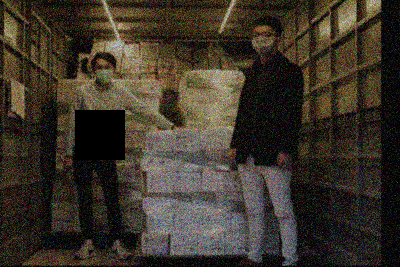with_mask: (252, 30, 279, 56), (93, 62, 114, 84)
